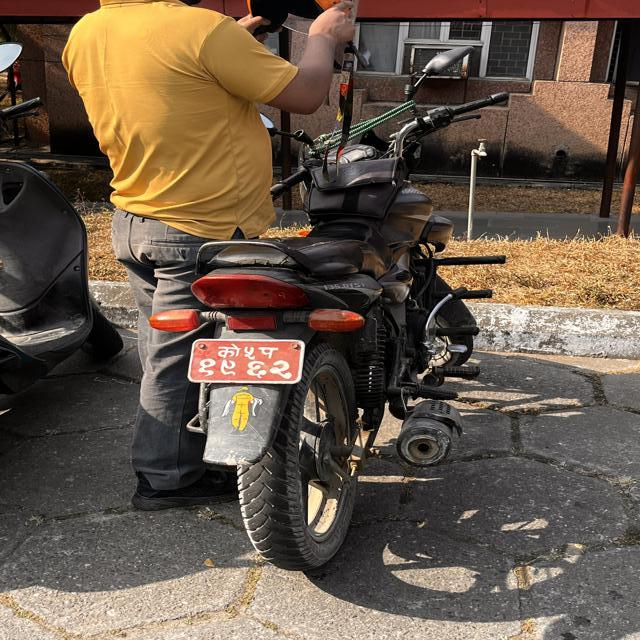license_plate: (180, 330, 328, 389)
